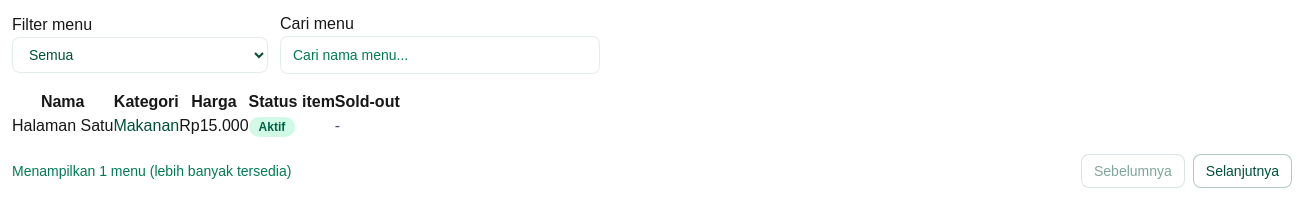
it: useMenuItemsQuery behavior › Next after Previous truncates the stale forward branch instead of replaying it
Check: the text "Halaman Satu" is shown, box [12, 114, 113, 138]
Click the button with aria-label "Halaman selanjutnya".
click(1242, 171)  # box [1193, 154, 1292, 188]
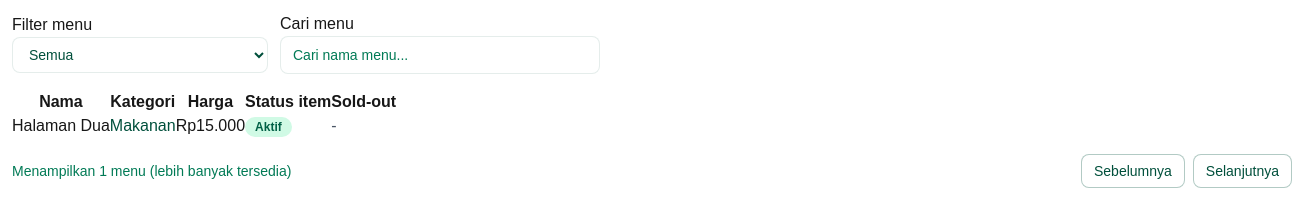
Check: the text "Halaman Dua" is shown, box [12, 114, 110, 138]
Click the button with aria-label "Halaman selanjutnya".
click(1242, 171)  # box [1193, 154, 1292, 188]
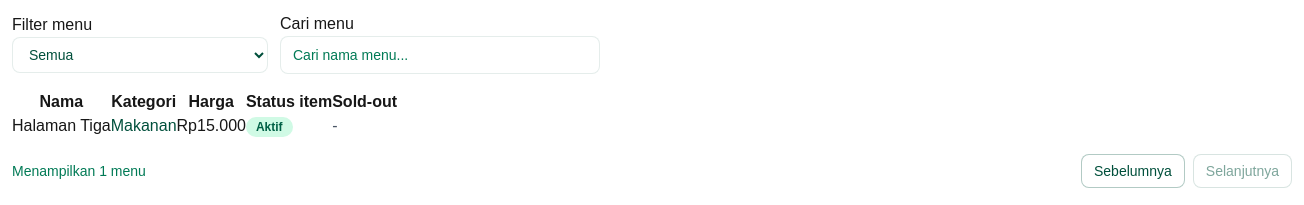
Check: the text "Halaman Tiga" is shown, box [12, 114, 111, 138]
Click the button with aria-label "Halaman sebelumnya".
click(1133, 171)  # box [1081, 154, 1185, 188]
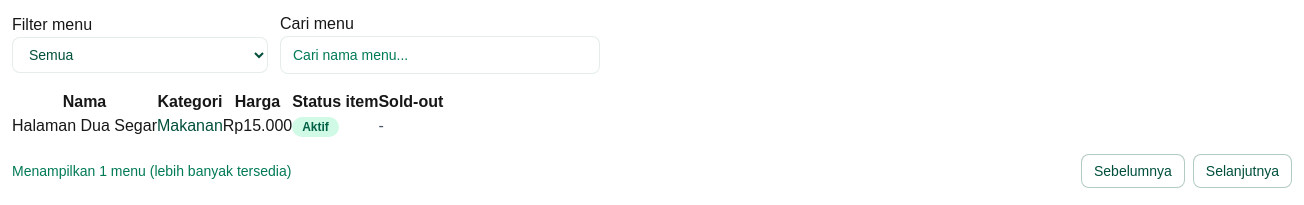
Check: the text "Halaman Dua Segar" is shown, box [12, 114, 157, 138]
Click the button with aria-label "Halaman selanjutnya".
click(1242, 171)  # box [1193, 154, 1292, 188]
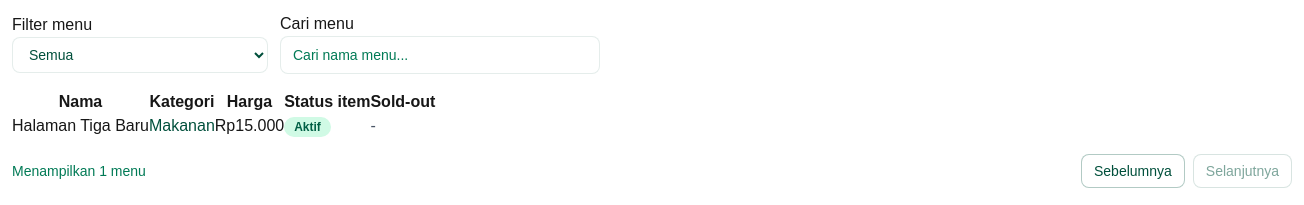
Check: the text "Halaman Tiga Baru" is shown, box [12, 114, 149, 138]
